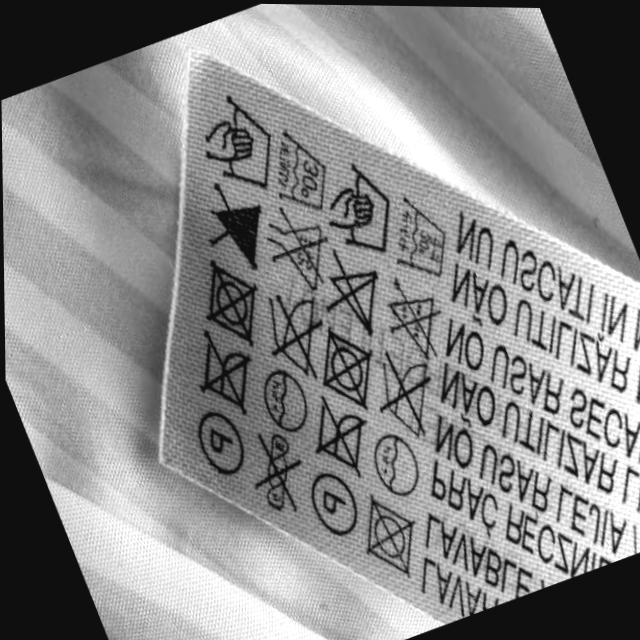30C: (276, 128, 331, 206)
DN_bleach: (209, 190, 267, 263), (330, 254, 384, 325), (271, 216, 324, 282), (391, 285, 442, 348)
DN_iron: (379, 357, 439, 431), (193, 342, 261, 406), (263, 294, 321, 369), (318, 404, 370, 469)
DN_tumble_dry: (365, 502, 422, 572), (321, 335, 377, 406), (209, 268, 260, 337)
DN_wring: (255, 430, 306, 514)
dry_clean: (373, 432, 423, 499), (261, 373, 309, 434)
dry_clean_any_solvent_except_trichloroethylene: (196, 406, 249, 476), (311, 471, 361, 537)
hand_wash: (211, 102, 273, 189), (340, 165, 393, 254), (394, 194, 451, 275)
